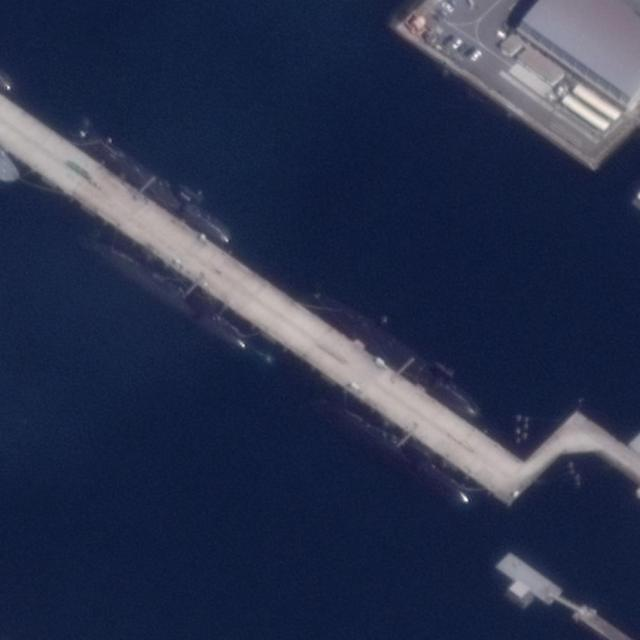Submarine: (306, 290, 489, 427), (93, 235, 275, 366), (70, 120, 235, 248), (319, 390, 477, 506)
